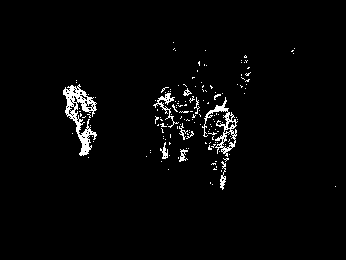person: (205, 93, 238, 191), (62, 85, 98, 156), (174, 90, 200, 163), (154, 85, 175, 161)
